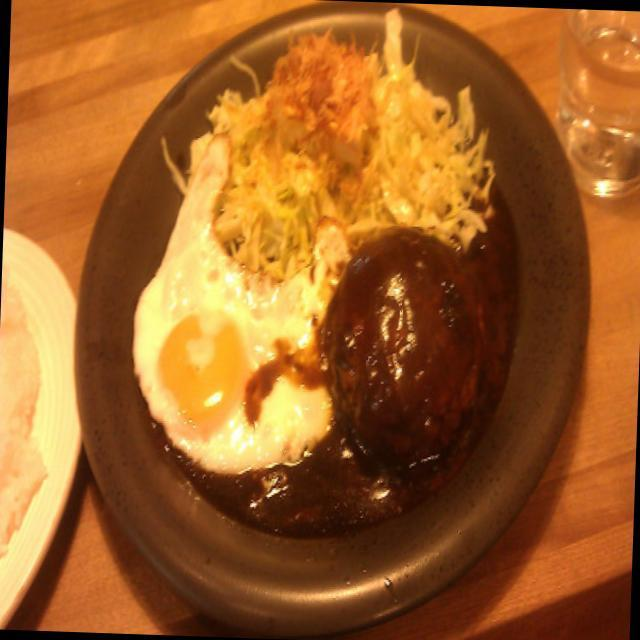Egg: (131, 249, 299, 466)
